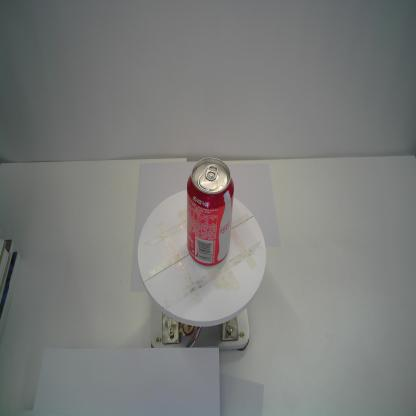Drink: (186, 154, 236, 268)
